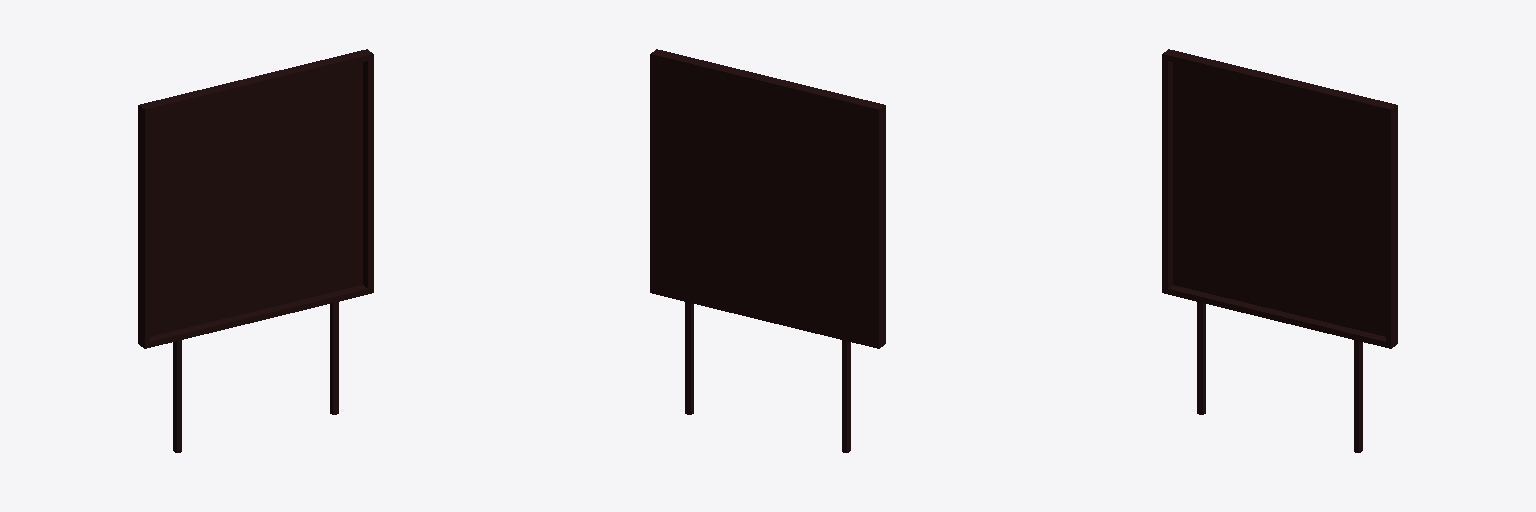
The model's file is instruct-frame1.obj.
The picture shows the model from 3 angles: view 1: azimuth 30°, elevation 25°; view 2: azimuth 150°, elevation 25°; view 3: azimuth 330°, elevation 25°; orthographic projection.
Parts seen in each view (by area): view 1: Cube.001_Cube.005; view 2: Cube.001_Cube.005; view 3: Cube.001_Cube.005.
Part boxes in pixels (left/top/right/bottom): Cube.001_Cube.005: left=138, top=49, right=373, bottom=452; Cube.001_Cube.005: left=650, top=49, right=885, bottom=452; Cube.001_Cube.005: left=1162, top=49, right=1397, bottom=452.
Size of the model in its own units: 2.05 by 3.02 by 0.1.